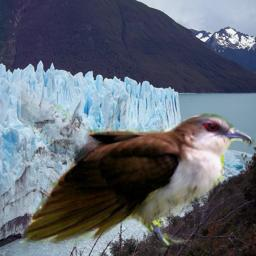Cuckoo: (21, 25, 255, 255)
